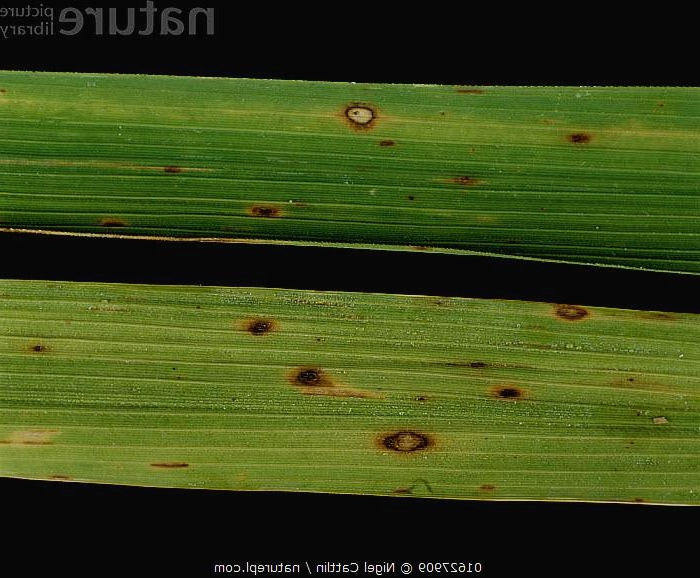Bacterial_Leaf_Blight: (267, 351, 380, 406), (349, 422, 448, 464), (227, 184, 297, 226), (224, 313, 288, 356), (477, 373, 546, 409), (539, 293, 605, 325), (18, 330, 64, 373), (330, 93, 381, 130), (559, 116, 603, 157), (420, 169, 491, 192), (134, 456, 195, 480), (640, 408, 690, 428), (458, 480, 509, 496), (159, 159, 191, 182), (444, 85, 493, 98), (88, 215, 135, 228), (370, 133, 401, 148)
